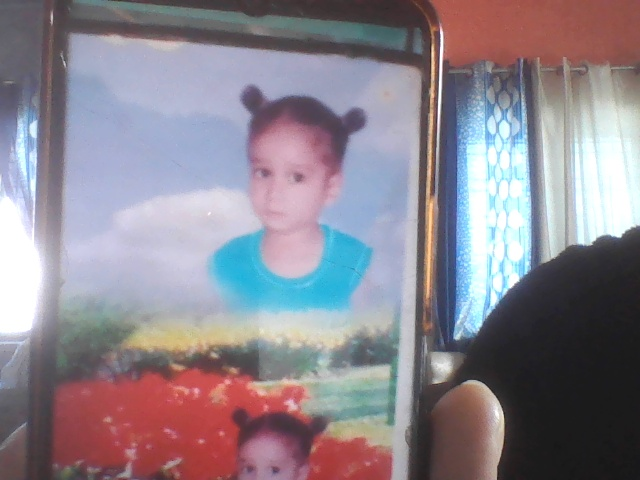fake: (246, 96, 345, 237)
